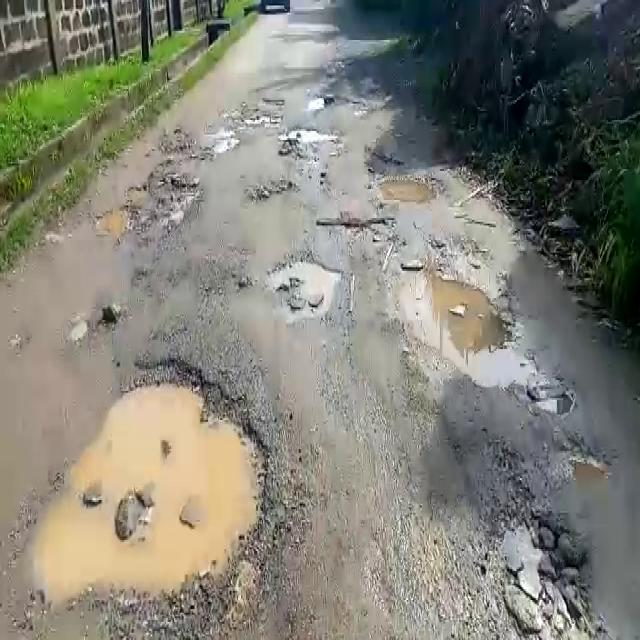Pothole: (32, 355, 283, 628), (392, 262, 512, 371), (95, 173, 198, 243), (273, 260, 344, 314), (460, 344, 544, 388), (374, 171, 440, 205), (320, 213, 397, 240), (244, 176, 298, 201), (280, 124, 340, 146)
